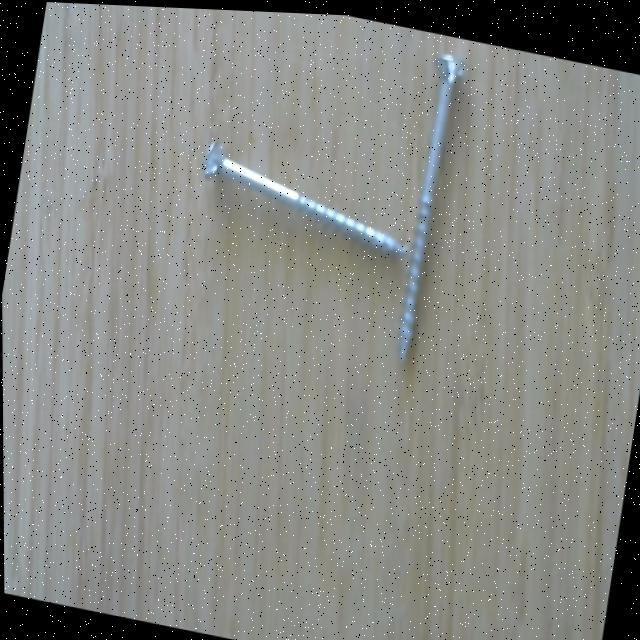Long screw: (193, 128, 412, 261), (386, 45, 476, 365)
